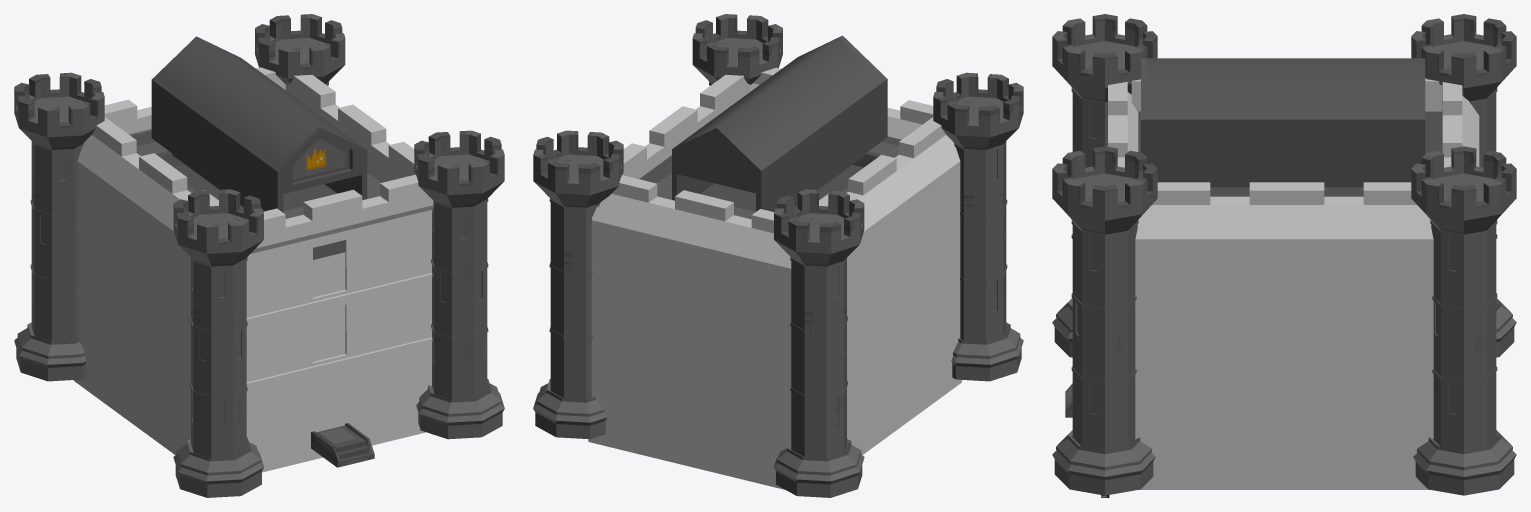
The model's file is CastleExportedYas.fbx.
3 renders of one model, left to right at view 1: azimuth 30°, elevation 25°; view 2: azimuth 150°, elevation 25°; view 3: azimuth 270°, elevation 25°, orthographic. The views are drawn at different scales.
Parts seen in each view (by area): view 1: pCube78, pCube82, pCube77, pCylinder17, pCylinder28, pCylinder29, pCylinder30, pCube83, pCube76, pCube66, pCube79, pCube70 (+1 smaller); view 2: pCube79, pCube82, pCube77, pCylinder29, pCylinder17, pCylinder30, pCylinder28, pCube83, pCube76, pCube78; view 3: pCube83, pCube77, pCylinder30, pCylinder28, pCylinder17, pCylinder29, pCube79, pCube78, pCube76, pCube82.
Part boxes in pixels (left/top/right/bottom): pCube78: left=246, top=174, right=433, bottom=472; pCube82: left=73, top=117, right=218, bottom=454; pCube77: left=151, top=36, right=367, bottom=212; pCylinder17: left=173, top=189, right=263, bottom=497; pCylinder28: left=414, top=130, right=504, bottom=439; pCylinder29: left=14, top=72, right=104, bottom=381; pCylinder30: left=255, top=14, right=345, bottom=85; pCube83: left=285, top=74, right=415, bottom=178; pCube76: left=131, top=131, right=397, bottom=259; pCube66: left=304, top=221, right=354, bottom=461; pCube79: left=104, top=67, right=285, bottom=135; pCube70: left=311, top=423, right=374, bottom=467; pCube79: left=588, top=175, right=791, bottom=489; pCube82: left=819, top=117, right=961, bottom=454; pCube77: left=672, top=35, right=887, bottom=211; pCylinder29: left=774, top=189, right=864, bottom=497; pCylinder17: left=933, top=72, right=1023, bottom=381; pCylinder30: left=533, top=130, right=623, bottom=439; pCylinder28: left=692, top=14, right=782, bottom=85; pCube83: left=622, top=74, right=749, bottom=178; pCube76: left=639, top=136, right=901, bottom=219; pCube78: left=749, top=67, right=933, bottom=139; pCube83: left=1135, top=182, right=1433, bottom=489; pCube77: left=1141, top=58, right=1425, bottom=187; pCylinder30: left=1411, top=146, right=1516, bottom=495; pCylinder28: left=1052, top=146, right=1157, bottom=495; pCylinder17: left=1052, top=14, right=1157, bottom=357; pCylinder29: left=1411, top=14, right=1516, bottom=357; pCube79: left=1442, top=82, right=1479, bottom=167; pCube78: left=1108, top=81, right=1138, bottom=167; pCube76: left=1138, top=105, right=1442, bottom=196; pCube82: left=1131, top=78, right=1442, bottom=111.
Size of the model in its own units: 51.02 by 48.73 by 56.57.
